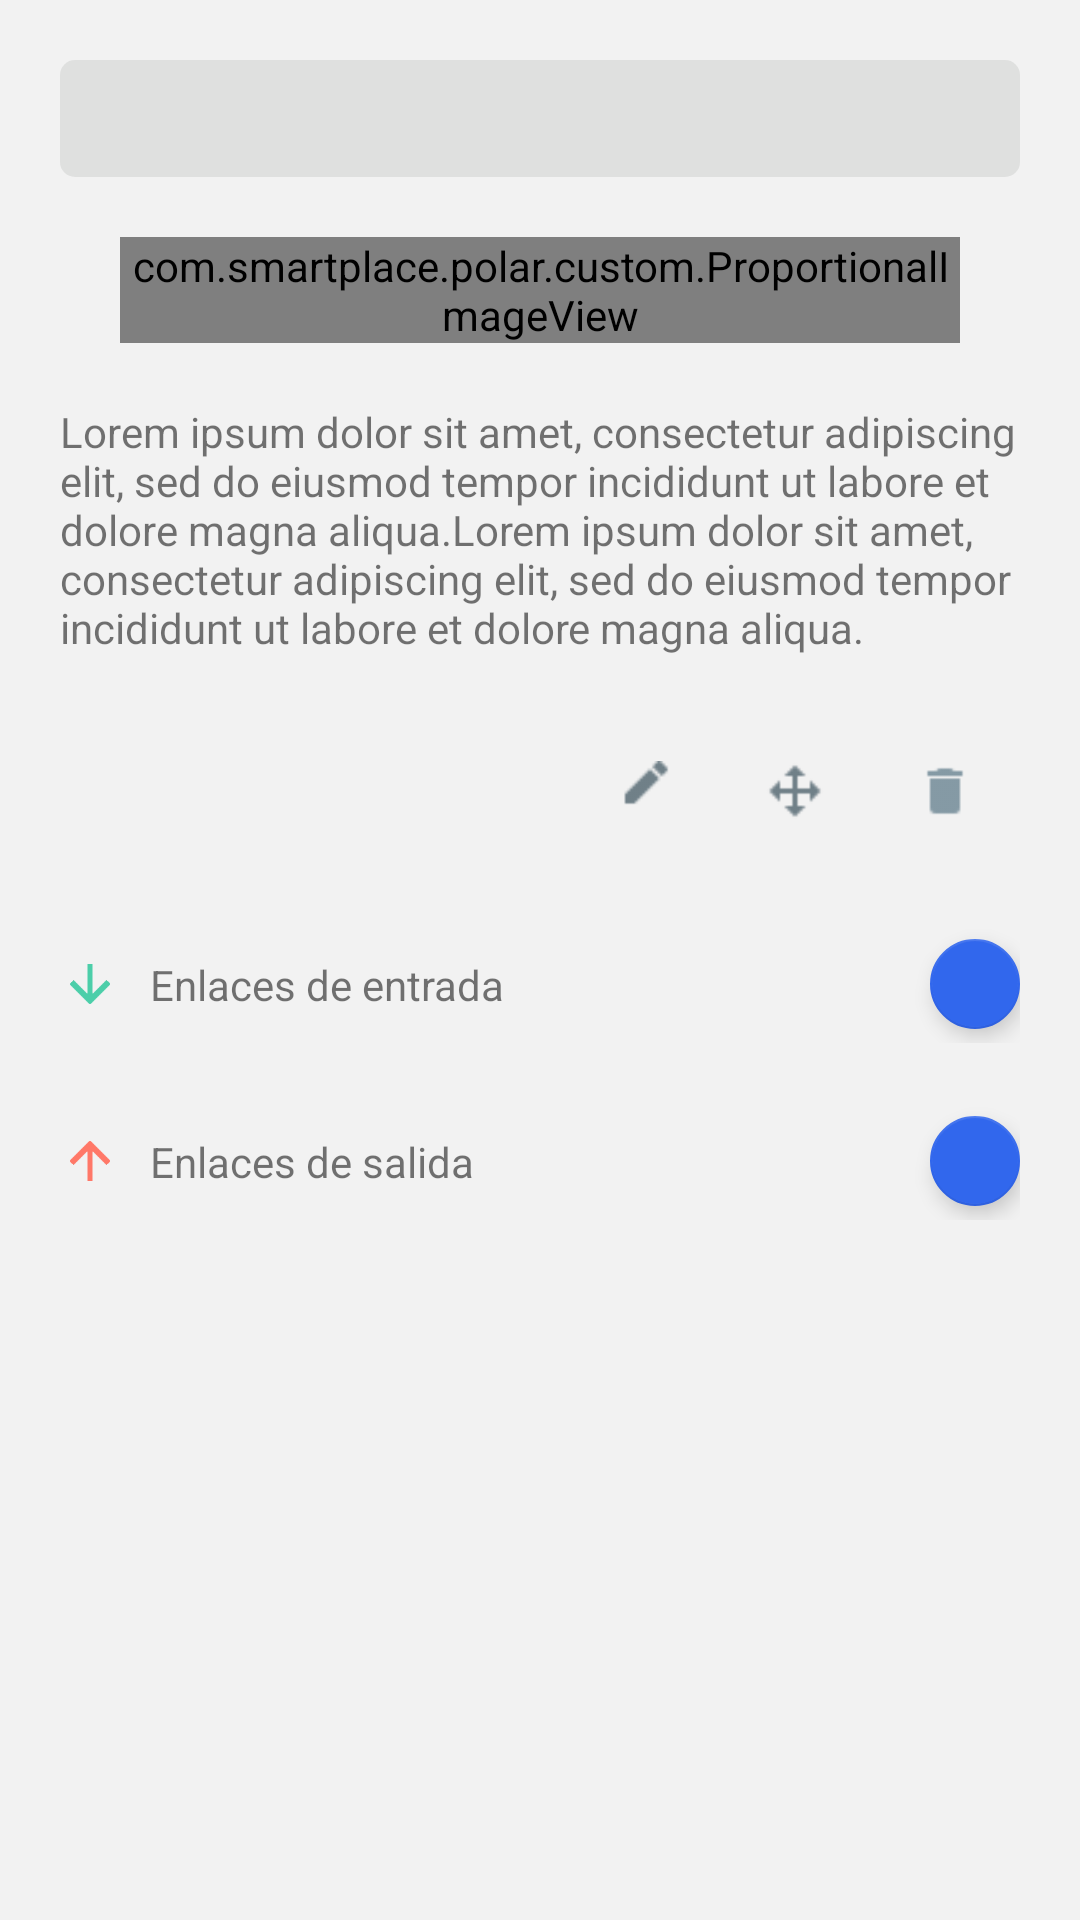

Named icons in this screenshot (1080px x 1920px) and their centers, (x=x, y=y):
delete: (x=945, y=791)
edit: (x=646, y=782)
link in: (x=90, y=984)
link out: (x=90, y=1161)
move: (x=795, y=791)
